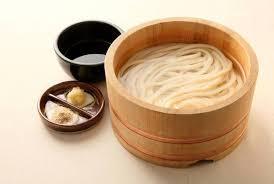kamaage: (100, 14, 262, 177)
